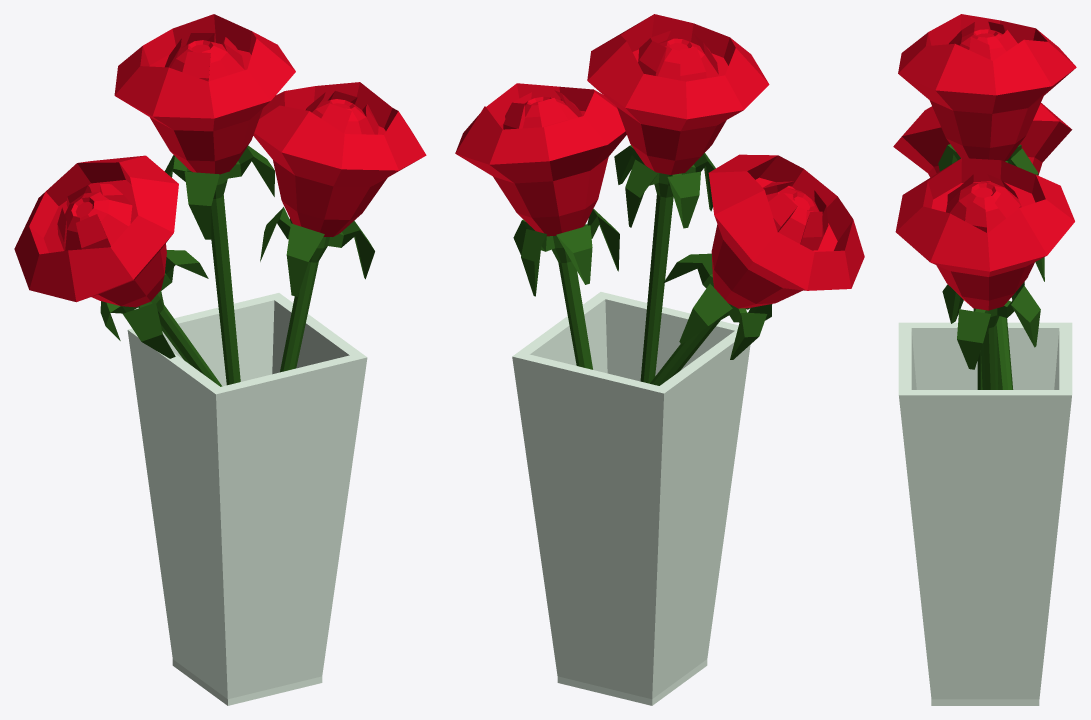
File: florero cn flores.fbx
3 views of the same model, side by side, from view 1: azimuth 30°, elevation 25°; view 2: azimuth 150°, elevation 25°; view 3: azimuth 270°, elevation 25° (orthographic). The views are drawn at different scales.
Visible parts, largest first — view 1: Cube, rosa.001, rosa.002, rosa; view 2: Cube, rosa.001, rosa.002, rosa; view 3: Cube, rosa, rosa.001, rosa.002.
Boxes of the visible parts, box(x1,y1,x2,y2) form: Cube: box(127, 293, 367, 705); rosa.001: box(114, 14, 295, 385); rosa.002: box(14, 155, 222, 386); rosa: box(253, 82, 426, 372); Cube: box(512, 292, 750, 705); rosa.001: box(587, 14, 769, 383); rosa.002: box(650, 154, 864, 385); rosa: box(455, 83, 626, 369); Cube: box(898, 322, 1072, 705); rosa: box(895, 158, 1074, 389); rosa.001: box(898, 14, 1076, 389); rosa.002: box(893, 103, 1072, 389).
Size of the model in its own units: 50.44 by 81.31 by 21.26.
